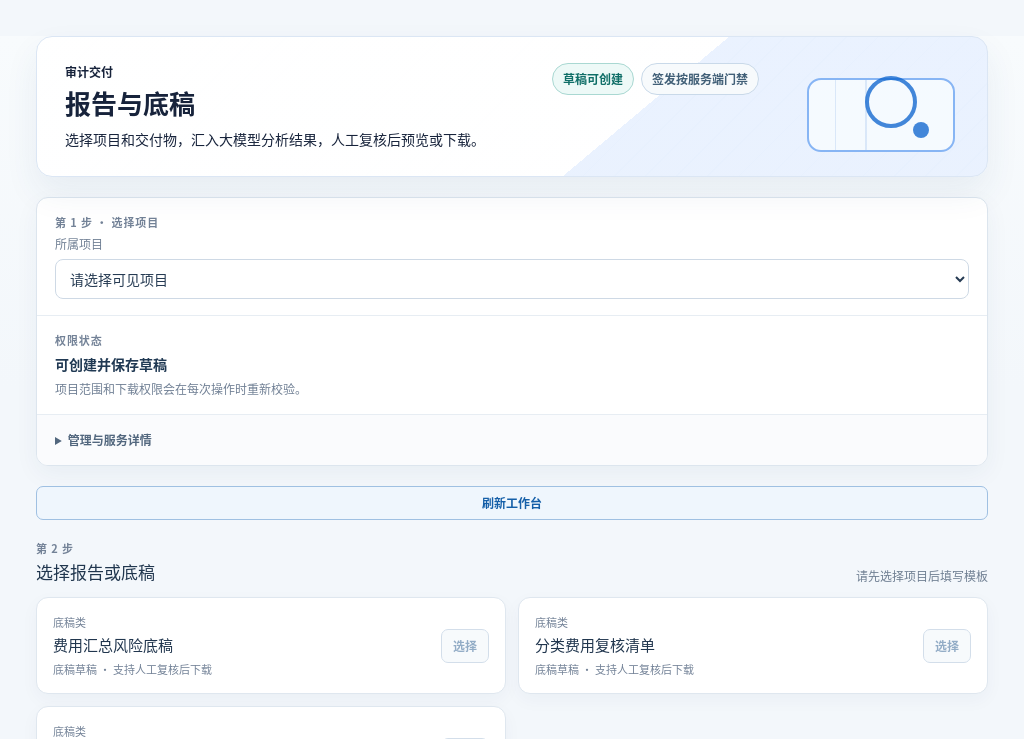
Test case: ReplicaReportWorkbench › requires an explicit ready project before a template can be opened
Expected: the heading "选择报告或底稿" is shown, x1=36 y1=559 x2=155 y2=585
Expected: the text "请先选择项目后填写模板" is shown, x1=856 y1=567 x2=988 y2=585
Select "Alpha 医保专项" in the dropdown labelled "所属项目" at (512, 279), box x1=55 y1=259 x2=969 y2=299
(page scrolled)
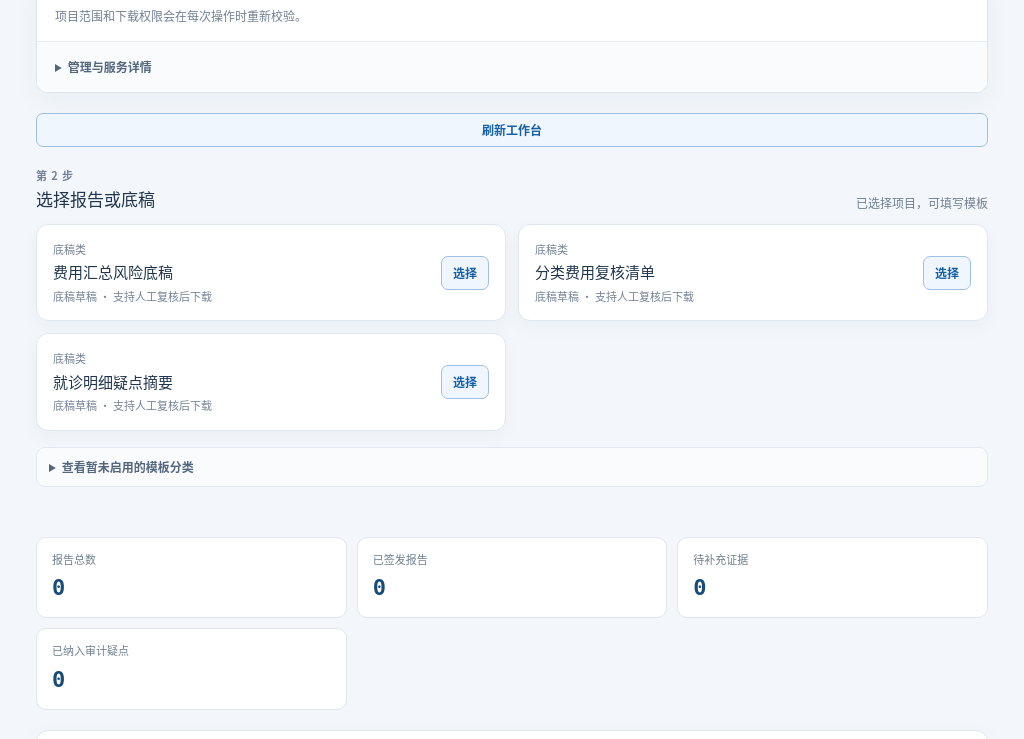
Result: the button with aria-label "填写模板：" is enabled at x1=441 y1=256 x2=489 y2=290
